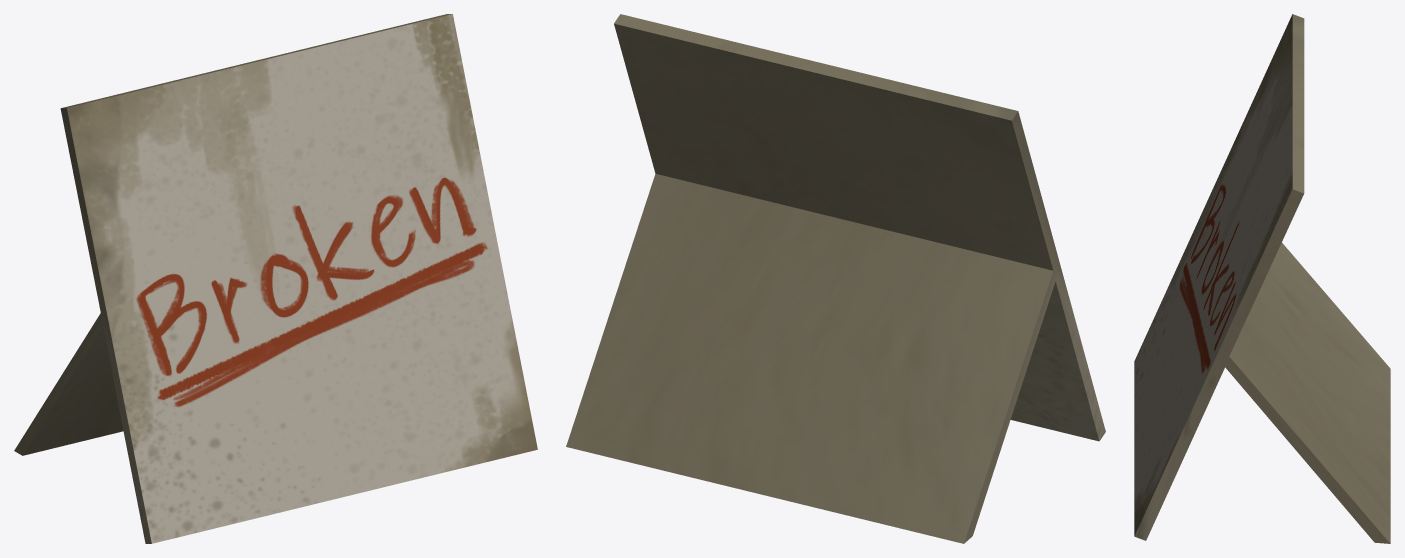
The model's file is Kyltti_broken.fbx.
3 renders of one model, left to right at view 1: azimuth 30°, elevation 25°; view 2: azimuth 150°, elevation 25°; view 3: azimuth 270°, elevation 25°, orthographic. The views are drawn at different scales.
Visible parts, largest first — view 1: ennustaja kyltti; view 2: ennustaja kyltti; view 3: ennustaja kyltti.
Boxes of the visible parts, left/top/right/bottom form: ennustaja kyltti: left=14, top=14, right=537, bottom=543; ennustaja kyltti: left=566, top=14, right=1105, bottom=543; ennustaja kyltti: left=1134, top=14, right=1390, bottom=543.
Bounding box in the file's own units: 98.15 × 92.65 × 60.67.
1 material, 1 textured.
